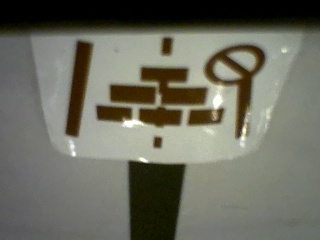Clearing_Zone: (65, 37, 268, 154)
